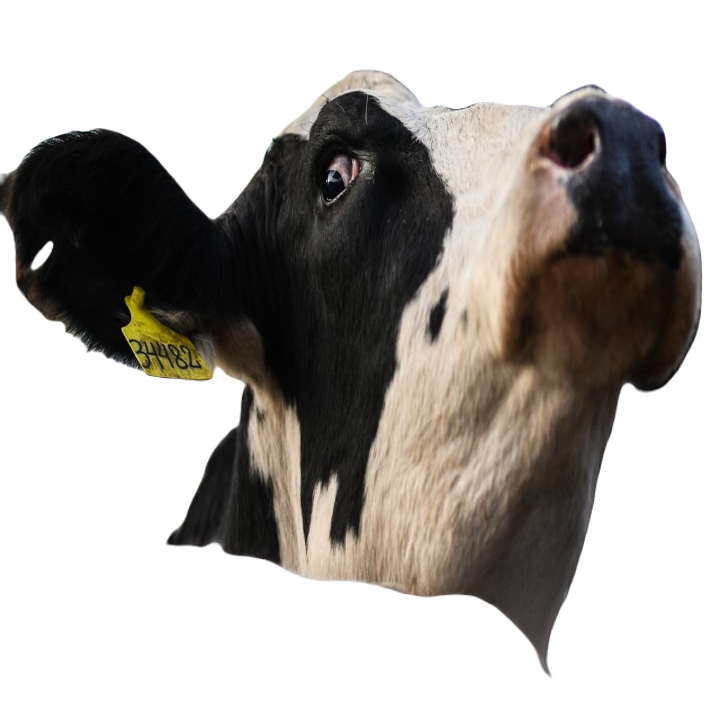Cow: (5, 65, 705, 675)
